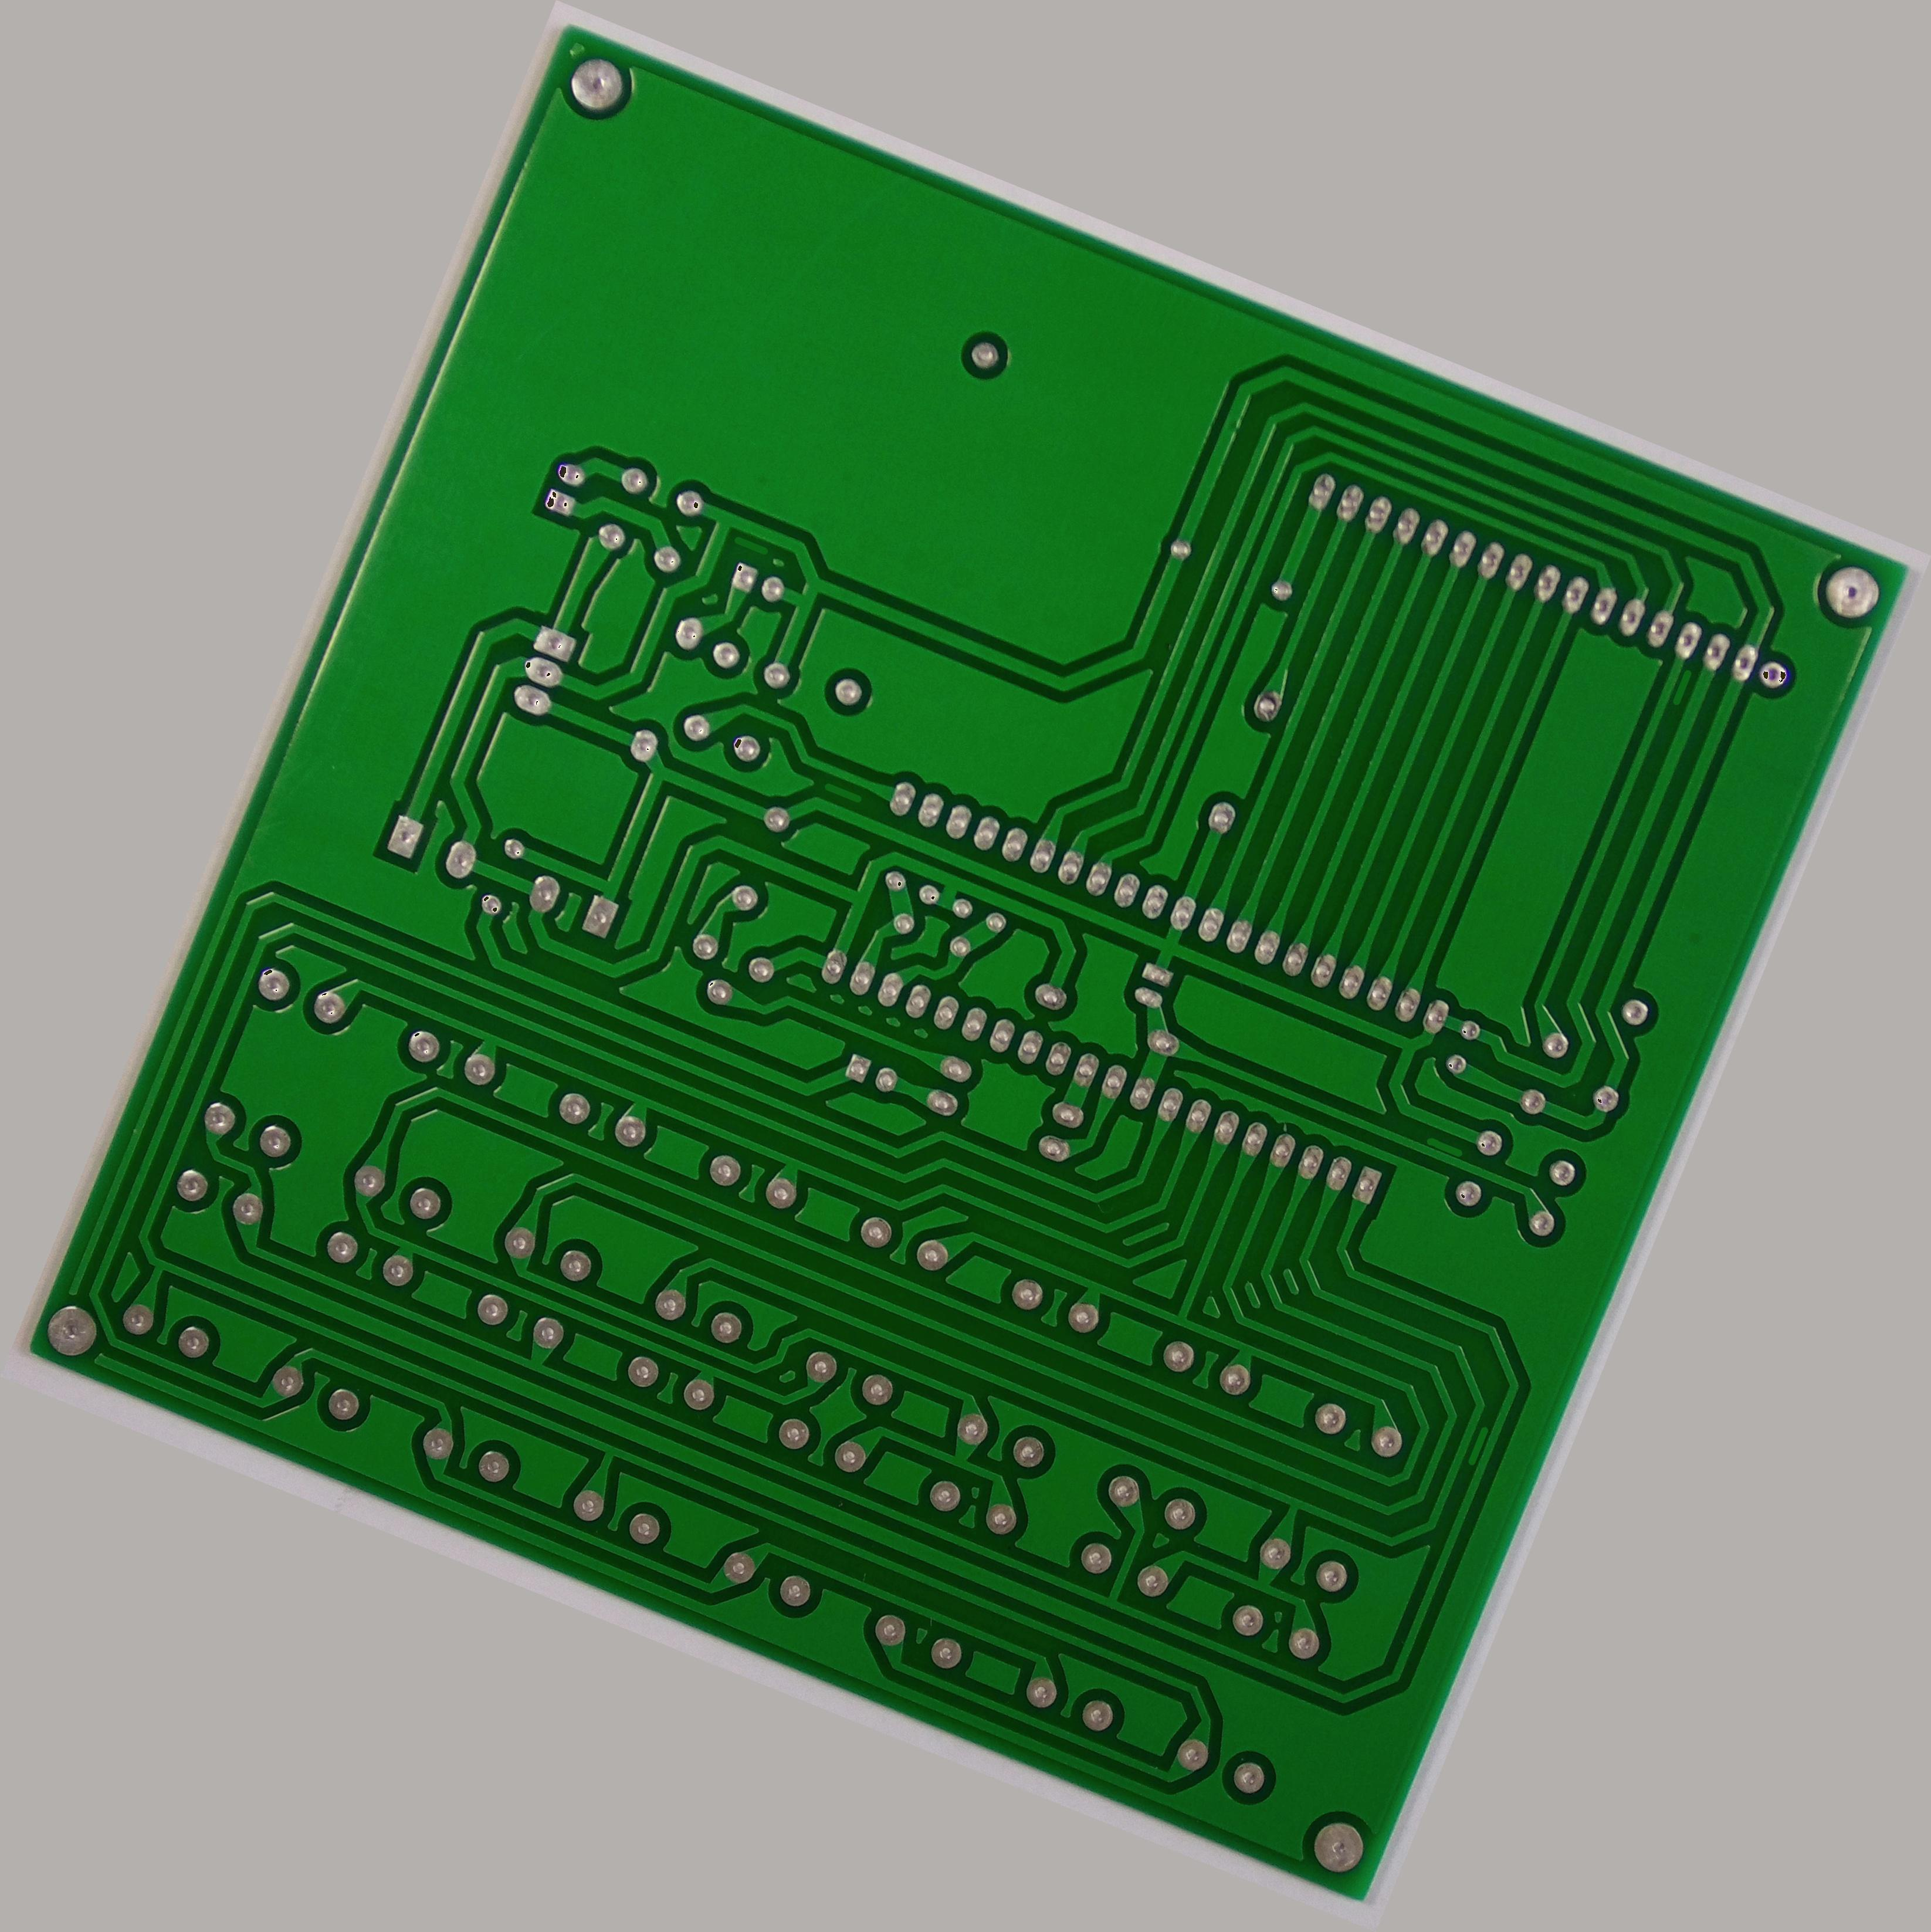spurious_copper: (718, 517, 785, 570), (808, 764, 874, 817), (1415, 1123, 1475, 1166), (1662, 658, 1703, 709), (1457, 1417, 1496, 1470)
